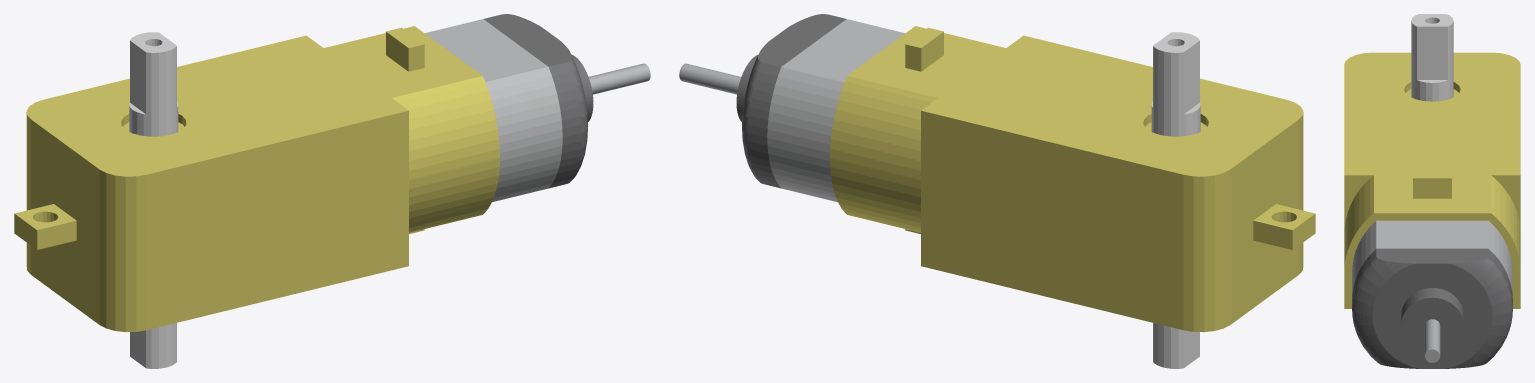
Rendered from Moteur.glb.
3 renders of one model, left to right at view 1: azimuth 30°, elevation 25°; view 2: azimuth 150°, elevation 25°; view 3: azimuth 270°, elevation 25°, orthographic. The views are drawn at different scales.
Parts seen in each view (by area): view 1: Mesh_Mesh_head_geo.001_lambert2SG.001; view 2: Mesh_Mesh_head_geo.001_lambert2SG.001; view 3: Mesh_Mesh_head_geo.001_lambert2SG.001.
Boxes of the visible parts, box(x1,y1,x2,y2) form: Mesh_Mesh_head_geo.001_lambert2SG.001: box(14, 14, 650, 368); Mesh_Mesh_head_geo.001_lambert2SG.001: box(679, 14, 1315, 368); Mesh_Mesh_head_geo.001_lambert2SG.001: box(1344, 14, 1520, 368).
Size of the model in its own units: 0.0785 by 0.0382 by 0.0225.
